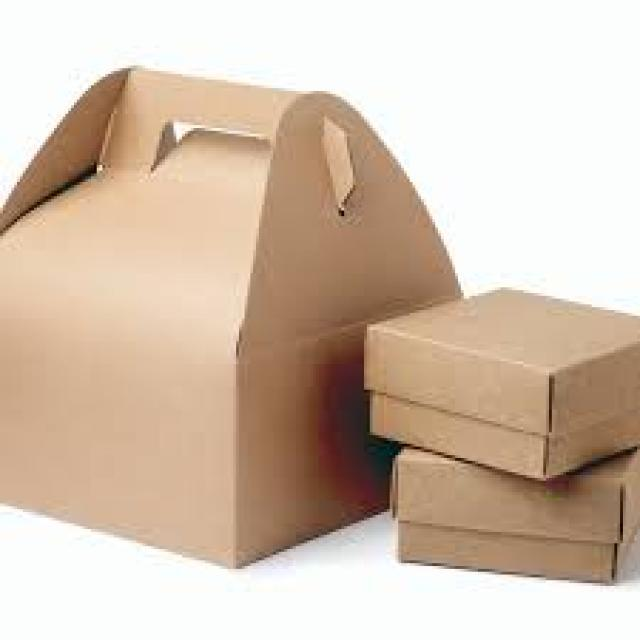Cardboard: (0, 69, 467, 565), (368, 280, 640, 483), (397, 453, 625, 578)
